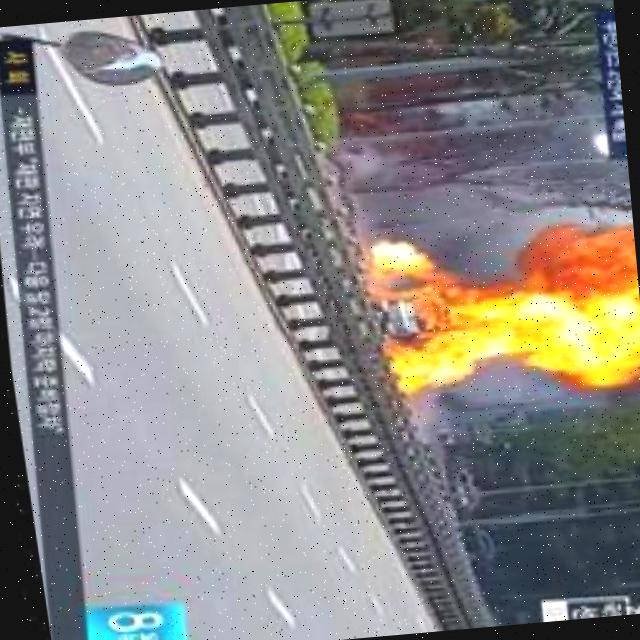fire: (512, 217, 640, 411), (353, 227, 479, 400), (450, 266, 535, 378)
